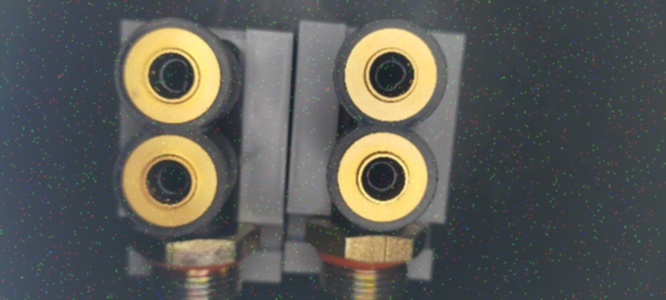off-centered: (371, 53, 410, 98), (157, 55, 195, 98)
